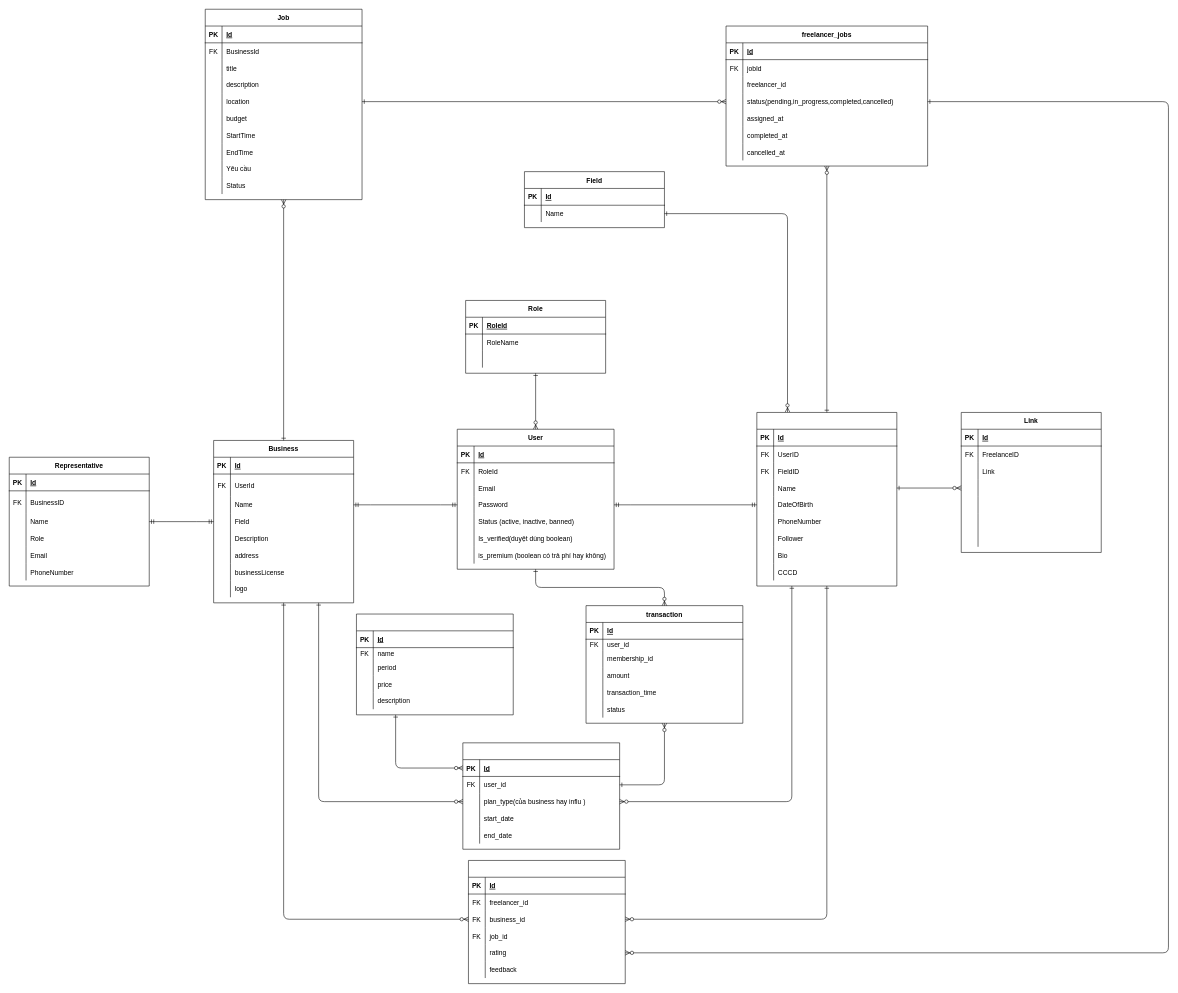
Image size: 1178x993. Some labels were removed from this diagram. The shapes that lost their labels are listed below. From the top down, each one's box as (x1, y1, x2, y2) in pixels, then its label:
(756, 412, 897, 586): FreelancerProfile
(356, 613, 513, 715): menbership_type
(462, 742, 620, 849): menbership
(468, 860, 625, 984): Review
